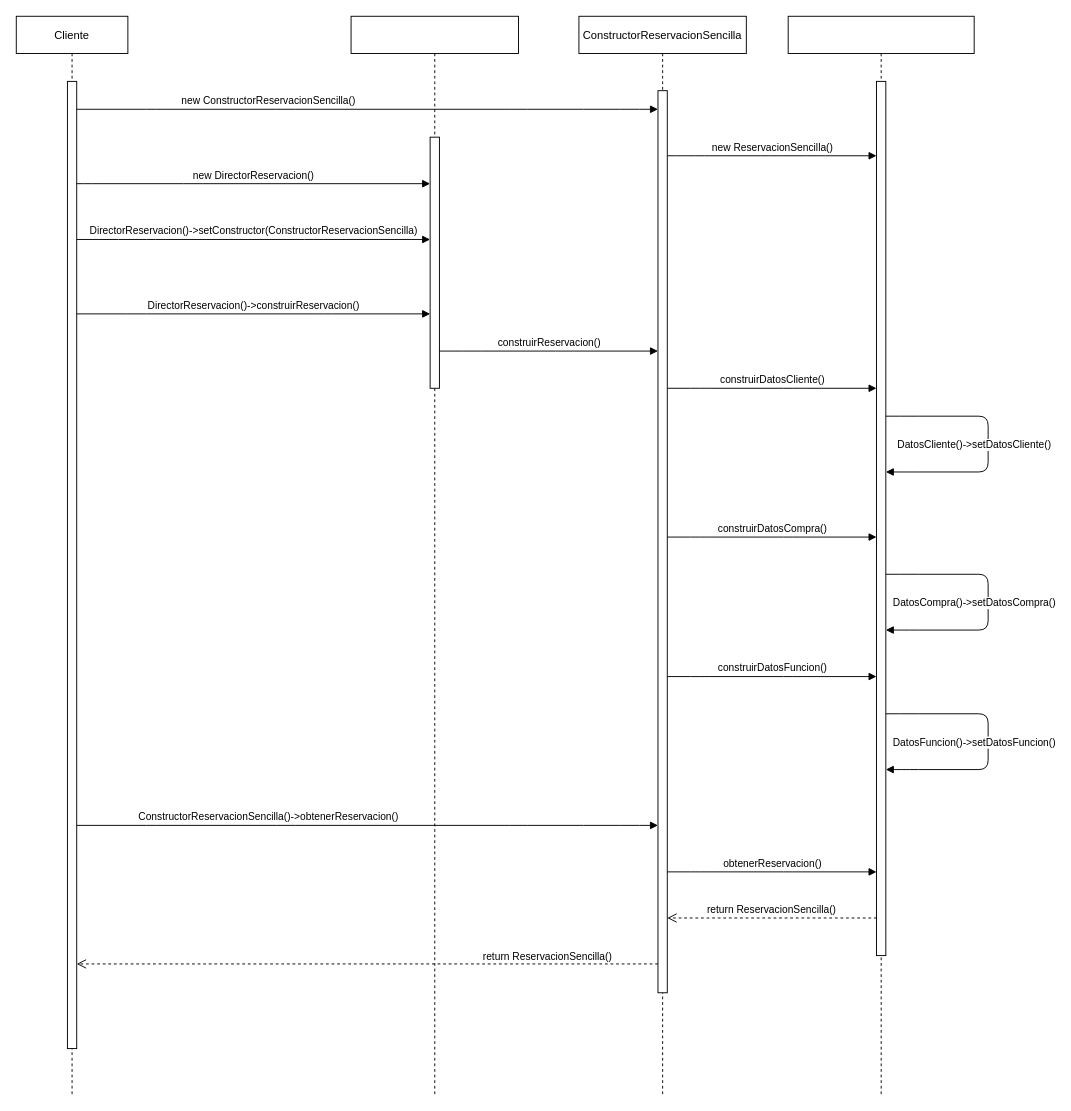
Image size: 1071x1111. Some labels were removed from this diagram. Each missing label, with the box of its shape:
DirectorReservacion: (350, 15, 518, 1095)
ReservacionSencilla: (787, 15, 974, 1095)
